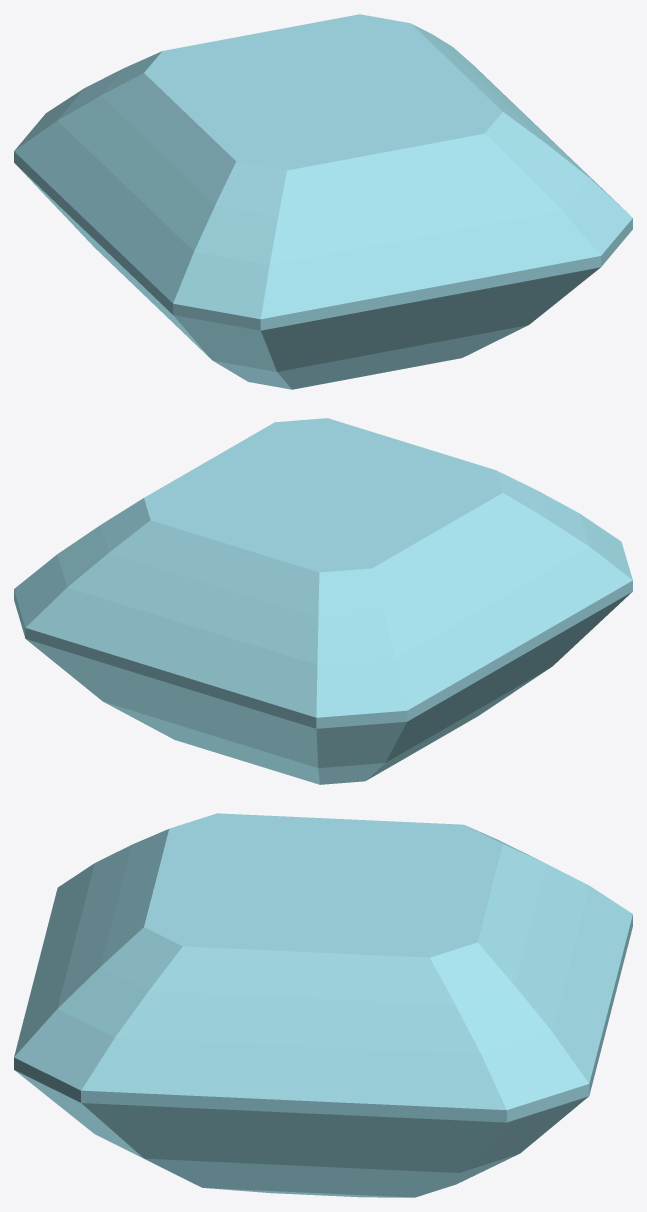
Rendered from stone-aquamarine.glb.
3 renders of one model, top to bottom at view 1: azimuth 30°, elevation 25°; view 2: azimuth 150°, elevation 25°; view 3: azimuth 270°, elevation 25°, orthographic. The views are drawn at different scales.
Parts seen in each view (by area): view 1: Gemstone Aquamarine; view 2: Gemstone Aquamarine; view 3: Gemstone Aquamarine.
Part boxes in pixels (x1,y1,x2,y2): Gemstone Aquamarine: [14, 14, 632, 389]; Gemstone Aquamarine: [14, 418, 632, 784]; Gemstone Aquamarine: [14, 813, 632, 1197].
Bounding box in the file's own units: 2.16 × 1.15 × 2.27.
